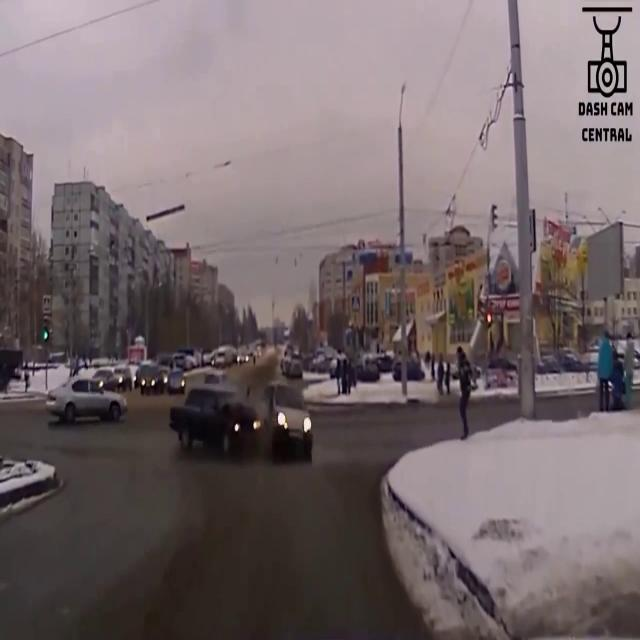accident: (169, 378, 313, 461)
